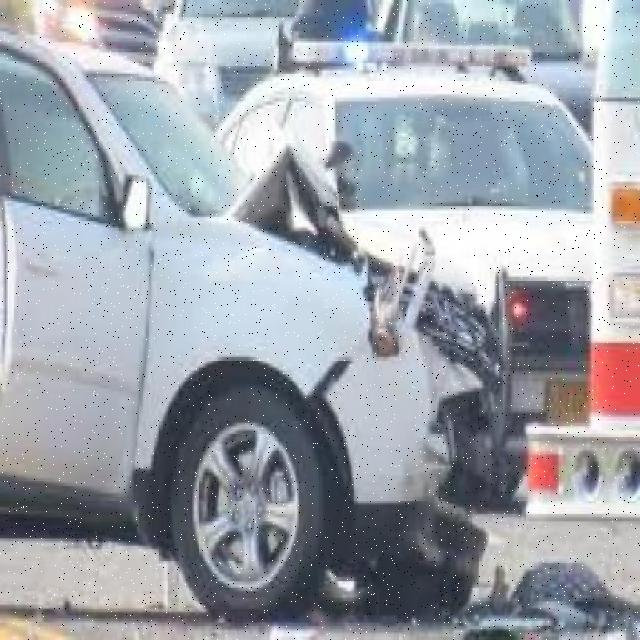damage: (162, 143, 508, 564)
